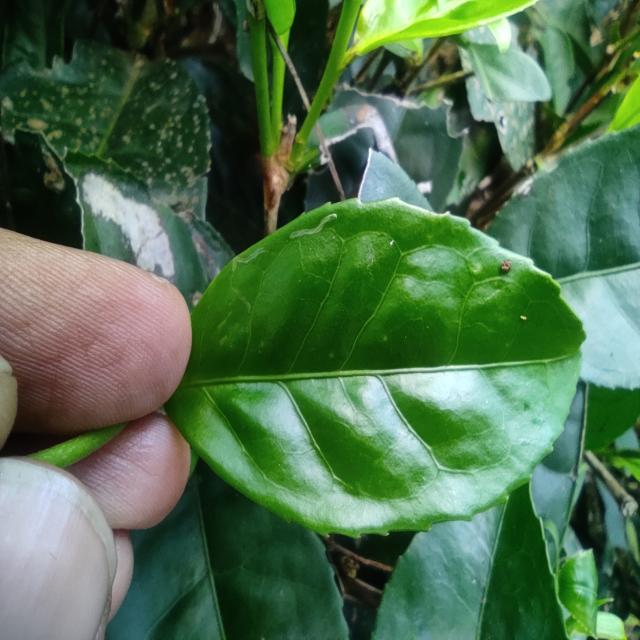Category C(4-7 days): (133, 186, 592, 545)
